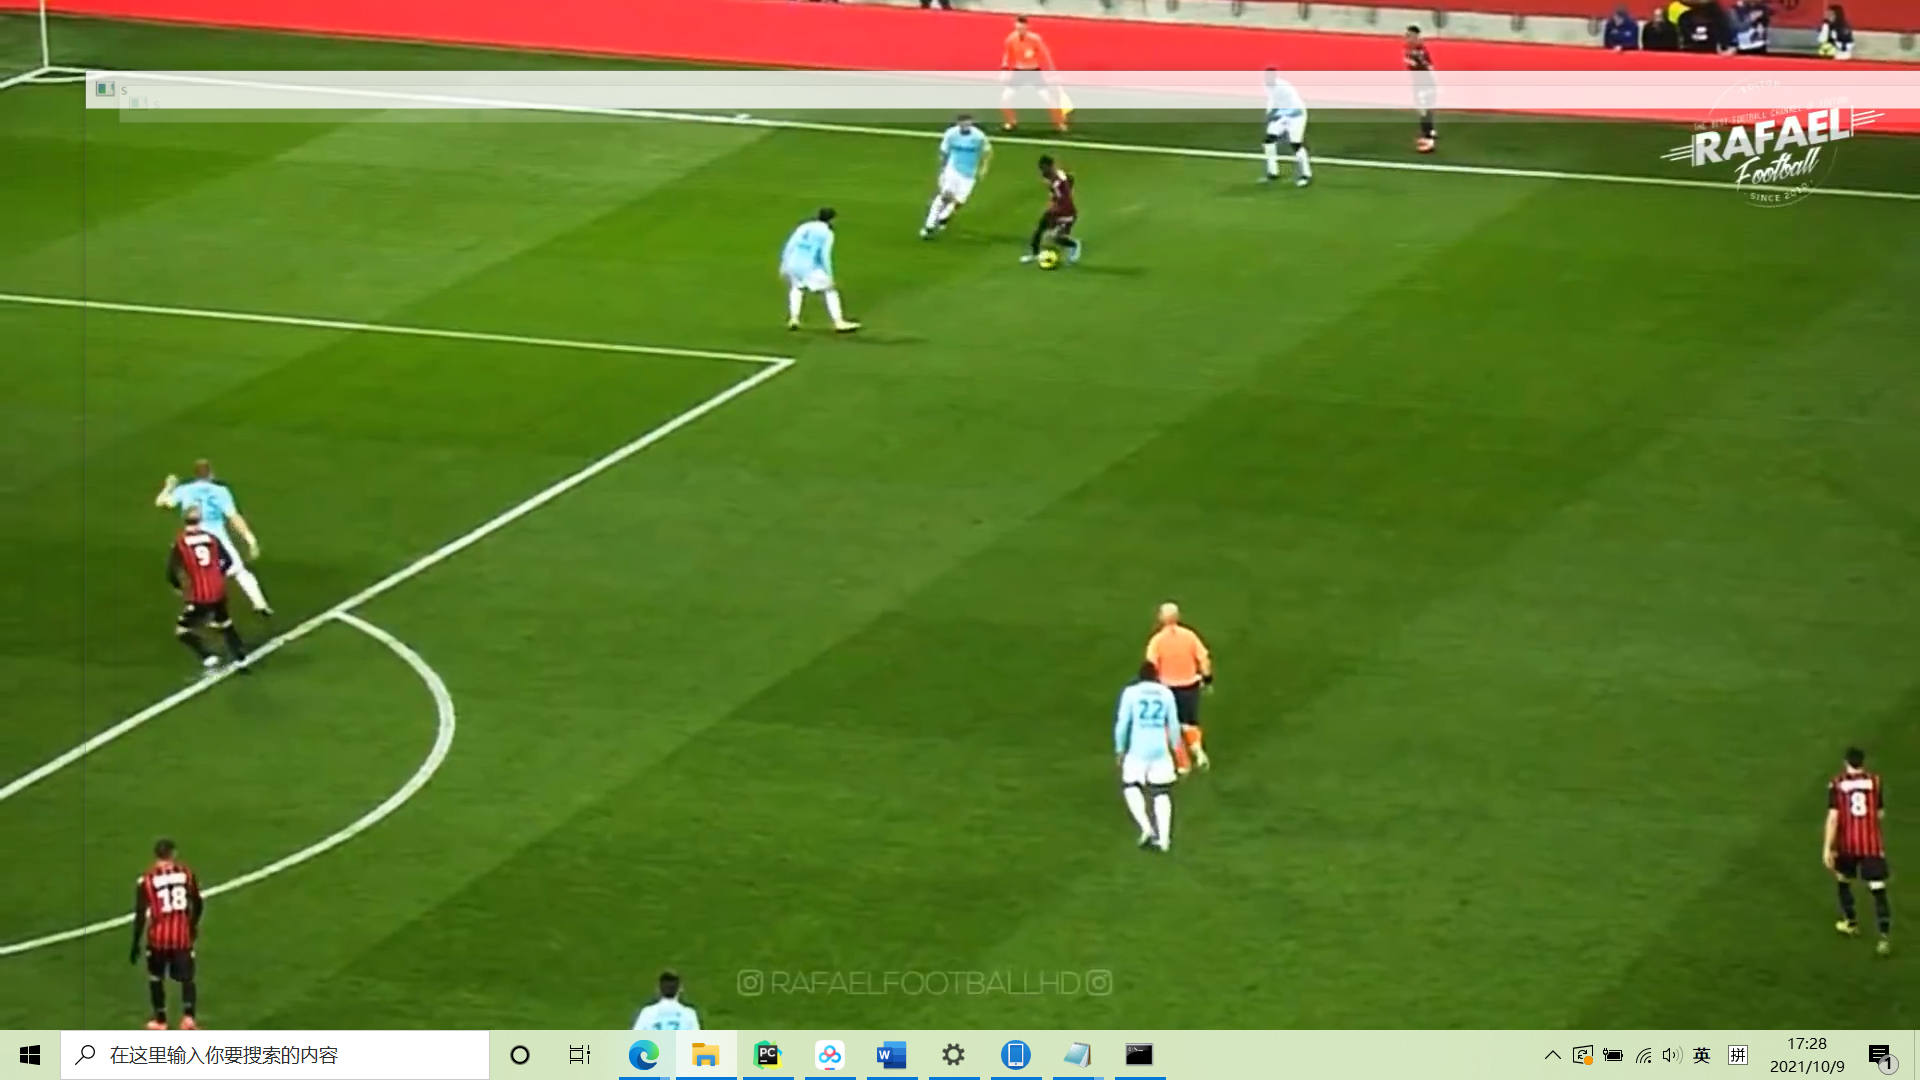ft: (1036, 248, 1058, 272)
